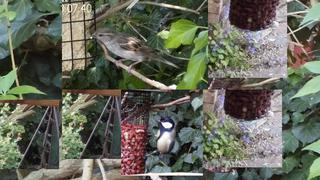great tit: (142, 116, 176, 160)
sparrow: (89, 27, 181, 77)
